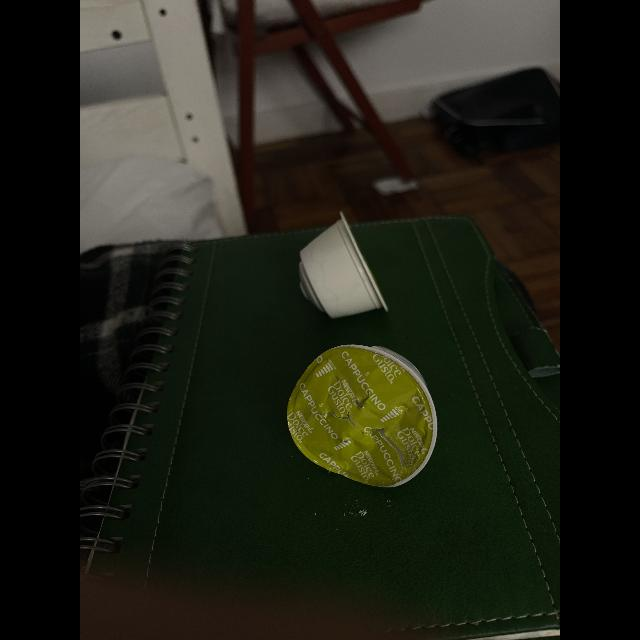damaged_capsule: (279, 342, 443, 496)
intact_capsule: (280, 214, 400, 324)
